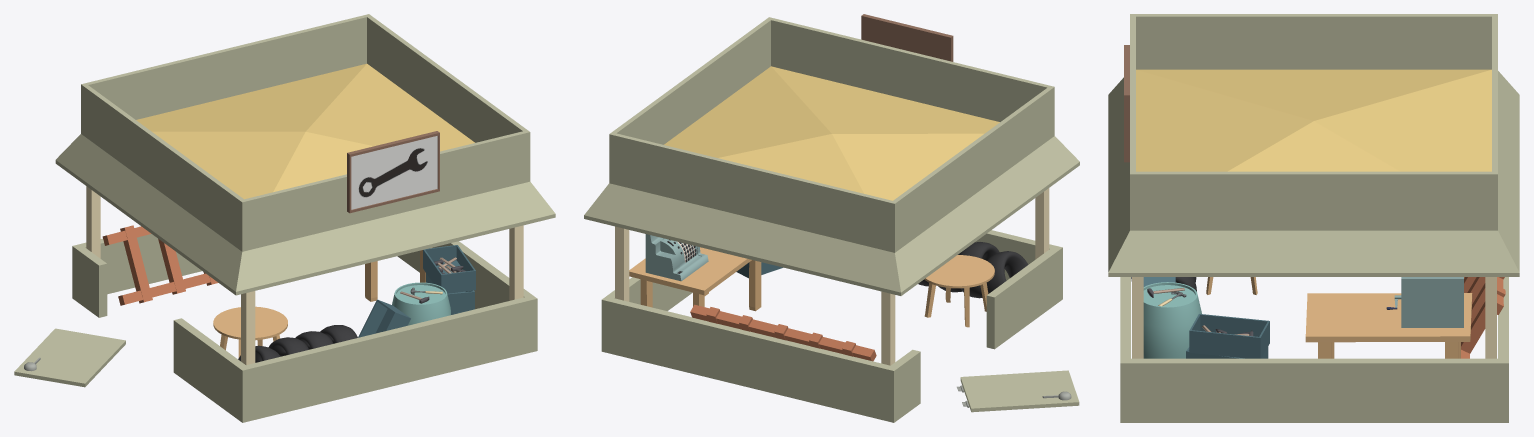
File: kiosk2.fbx
3 renders of one model, left to right at view 1: azimuth 30°, elevation 25°; view 2: azimuth 150°, elevation 25°; view 3: azimuth 270°, elevation 25°, orthographic. The views are drawn at different scales.
Visible parts, largest first — view 1: Cube.028; view 2: Cube.028; view 3: Cube.028.
Boxes of the visible parts, bbox=[...] form: Cube.028: bbox=[14, 14, 555, 422]; Cube.028: bbox=[584, 14, 1079, 422]; Cube.028: bbox=[1108, 14, 1519, 422].
Bounding box in the file's own units: 476 × 255 × 345.
3 materials, 3 textured.
